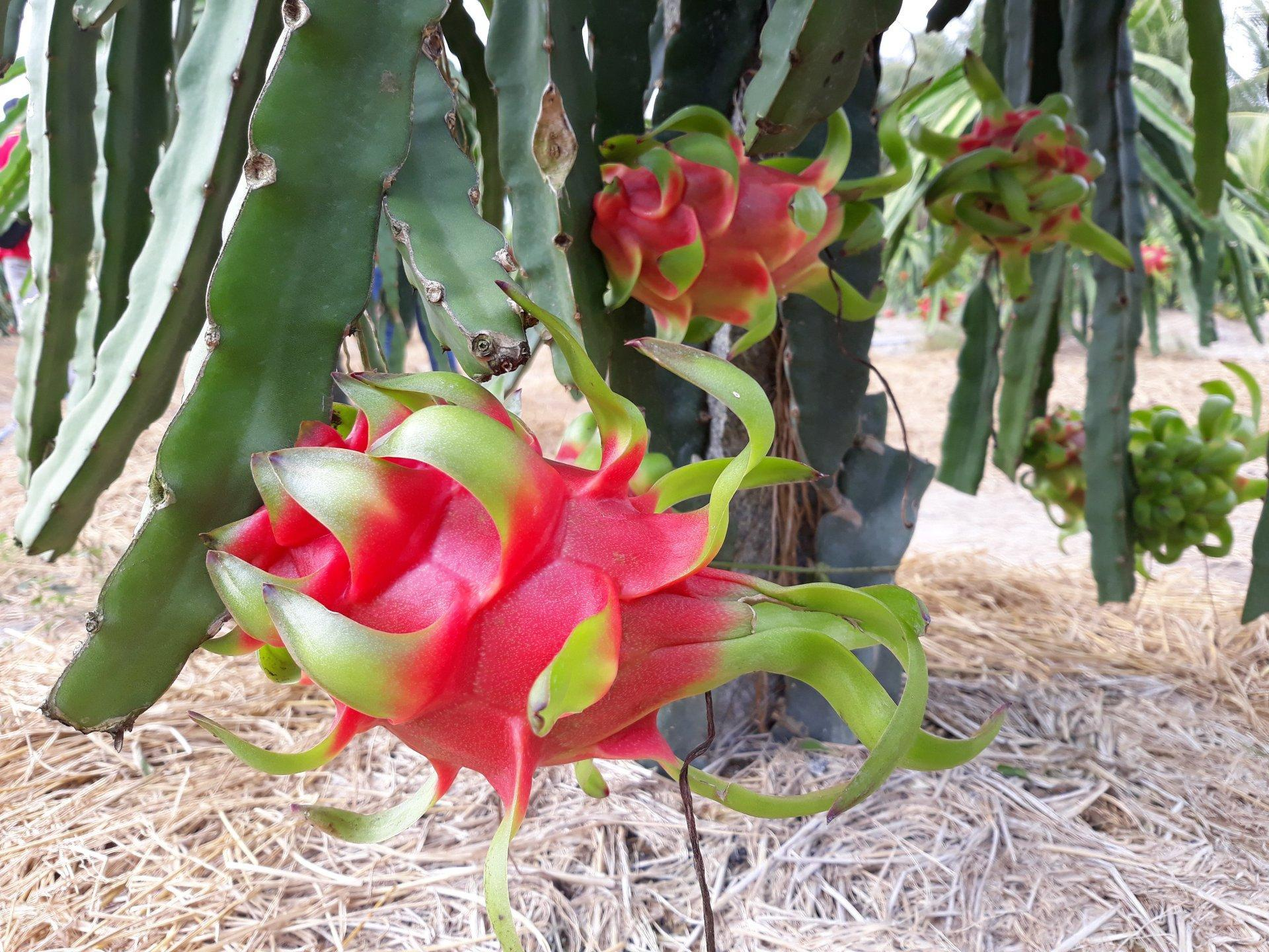dragon-fruit: (265, 452, 725, 776), (587, 144, 845, 319), (944, 107, 1094, 254)
